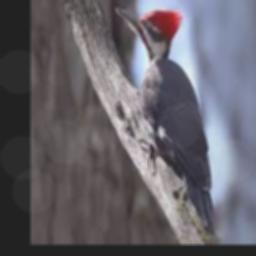Woodpecker: (116, 6, 214, 231)
